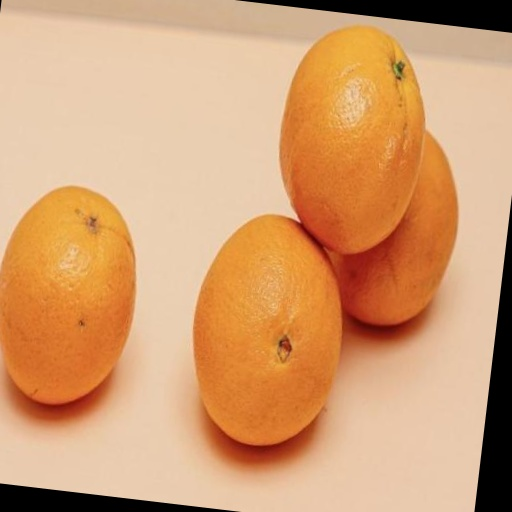fruit: (193, 215, 341, 445), (279, 26, 424, 253), (0, 187, 135, 404), (331, 133, 457, 325)
